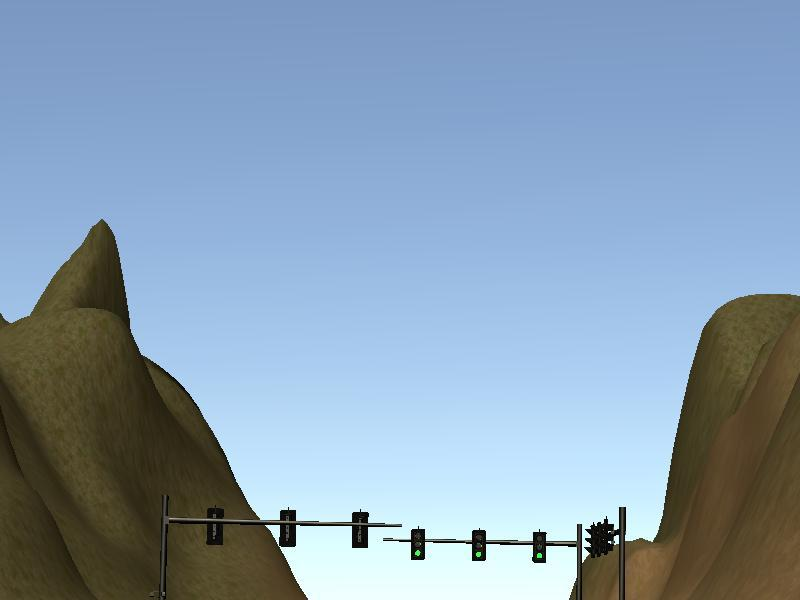Green: (410, 529, 425, 560), (531, 532, 546, 563), (471, 530, 486, 561)
